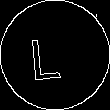L_N: (38, 28, 72, 82)
